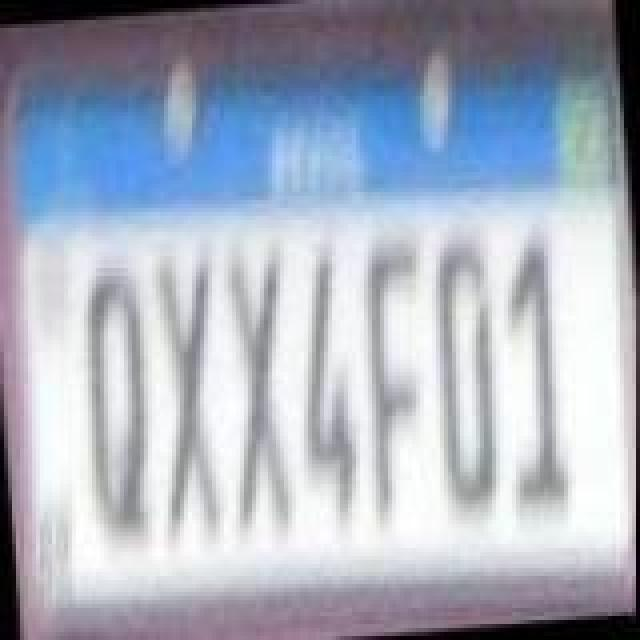1: (494, 224, 574, 520)
4: (292, 250, 364, 518)
D: (428, 230, 508, 526)
F: (352, 234, 440, 522)
Q: (76, 258, 164, 550)
X: (144, 240, 240, 548), (216, 242, 304, 546)
